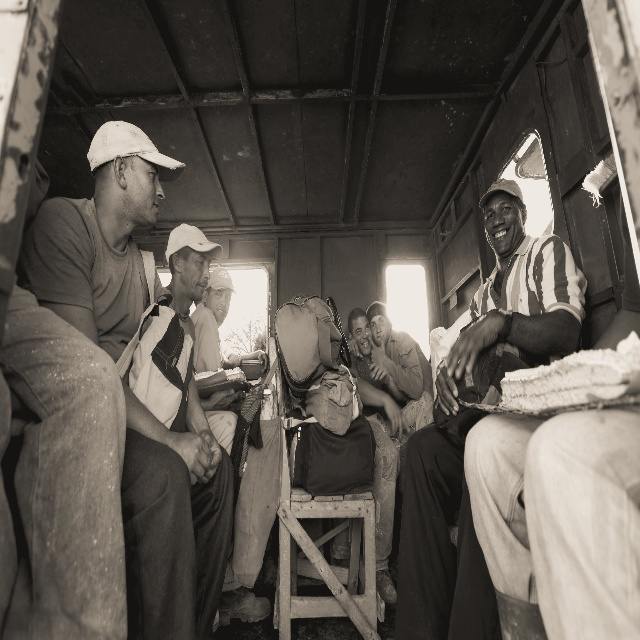Sin_guantes: (444, 310, 507, 383), (170, 429, 213, 486), (198, 427, 222, 486), (435, 363, 460, 417), (384, 393, 411, 439), (208, 387, 242, 411), (365, 330, 386, 363), (369, 356, 388, 381), (258, 348, 270, 373), (228, 350, 244, 368), (347, 338, 360, 357)
